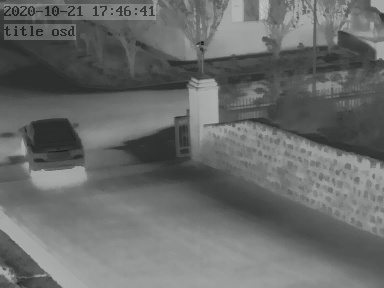vehicle: (20, 117, 88, 176)
